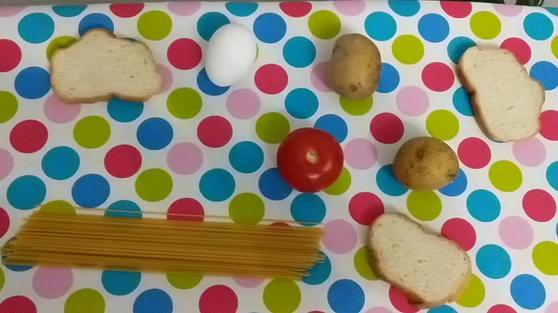egg: (196, 14, 265, 94)
potato: (391, 129, 467, 195), (325, 24, 386, 104)
spaghetti: (1, 199, 325, 282)
tomato: (273, 116, 350, 193)
white_bread: (43, 23, 184, 106), (452, 37, 558, 144), (364, 208, 470, 307)
